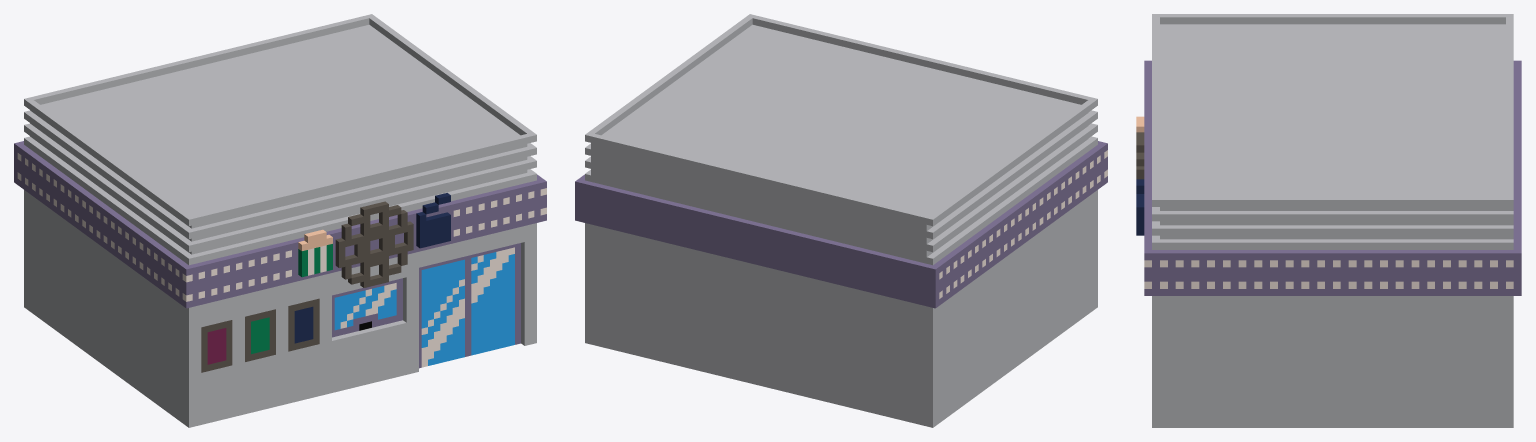
The model's file is cinema_b.obj.
3 views of the same model, side by side, from view 1: azimuth 30°, elevation 25°; view 2: azimuth 150°, elevation 25°; view 3: azimuth 270°, elevation 25° (orthographic). The views are drawn at different scales.
Size of the model in its own units: 5.8 by 3.2 by 4.9.
1 material, 1 textured.
